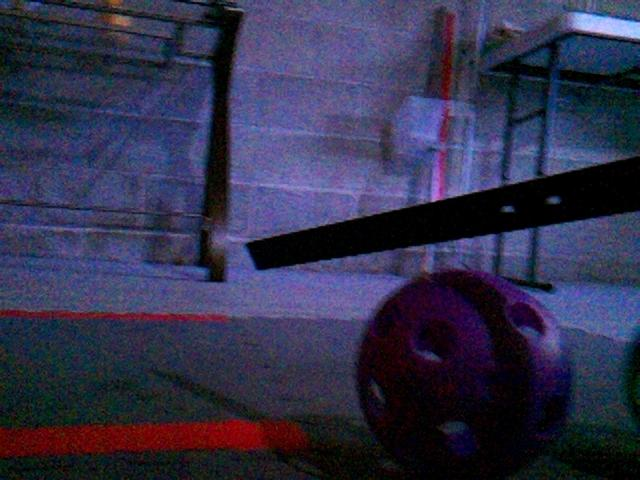Purple: (355, 270, 574, 480)
